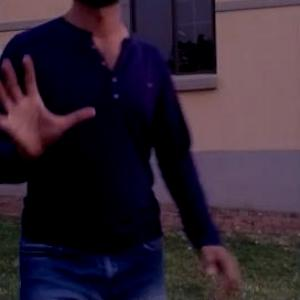follow_hand: (0, 48, 101, 171)
